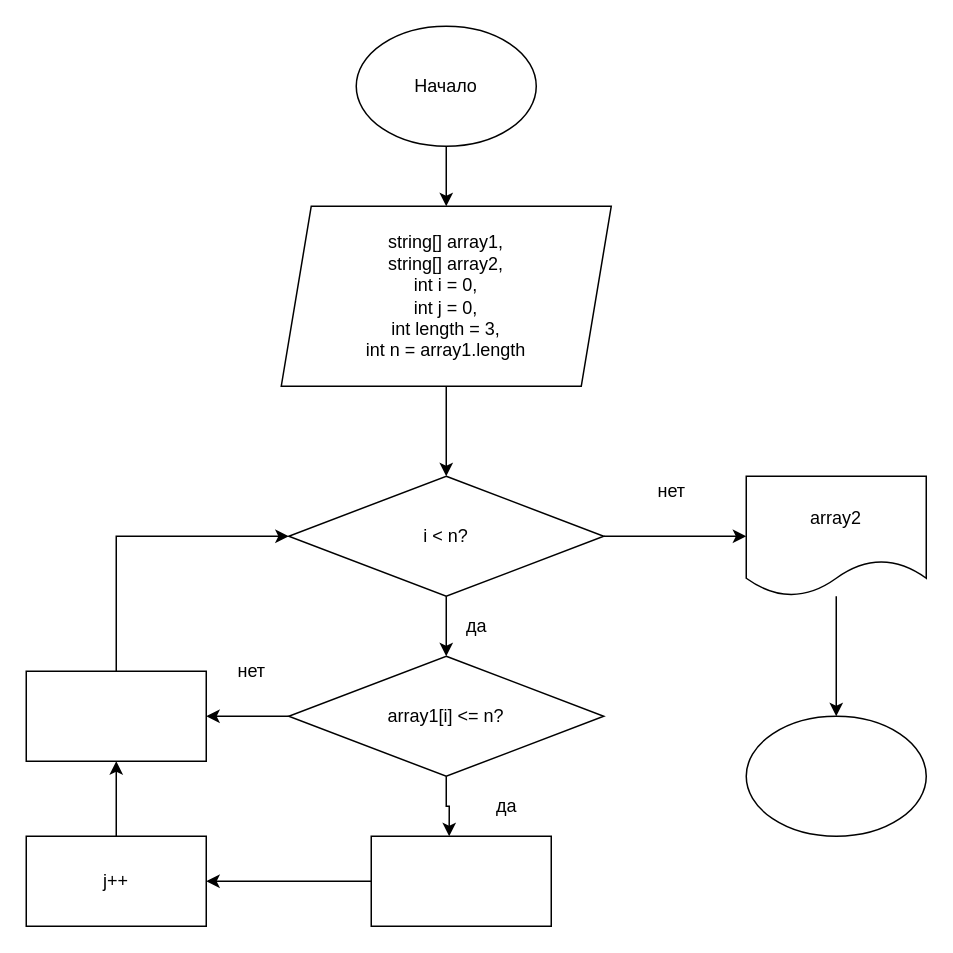
The diagram is 953 pixels wide and 953 high, and some of its shapes have lost their labels. Each missing label, with the centre of its shape:
"array2[j]=array1[i]" belongs at pixel 460 880.
"i++" belongs at pixel 115 715.
"Конец" belongs at pixel 835 775.
